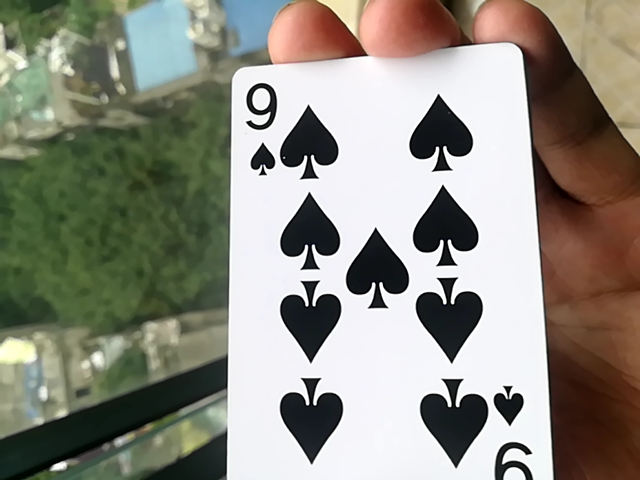ht 9: (213, 44, 547, 478)
